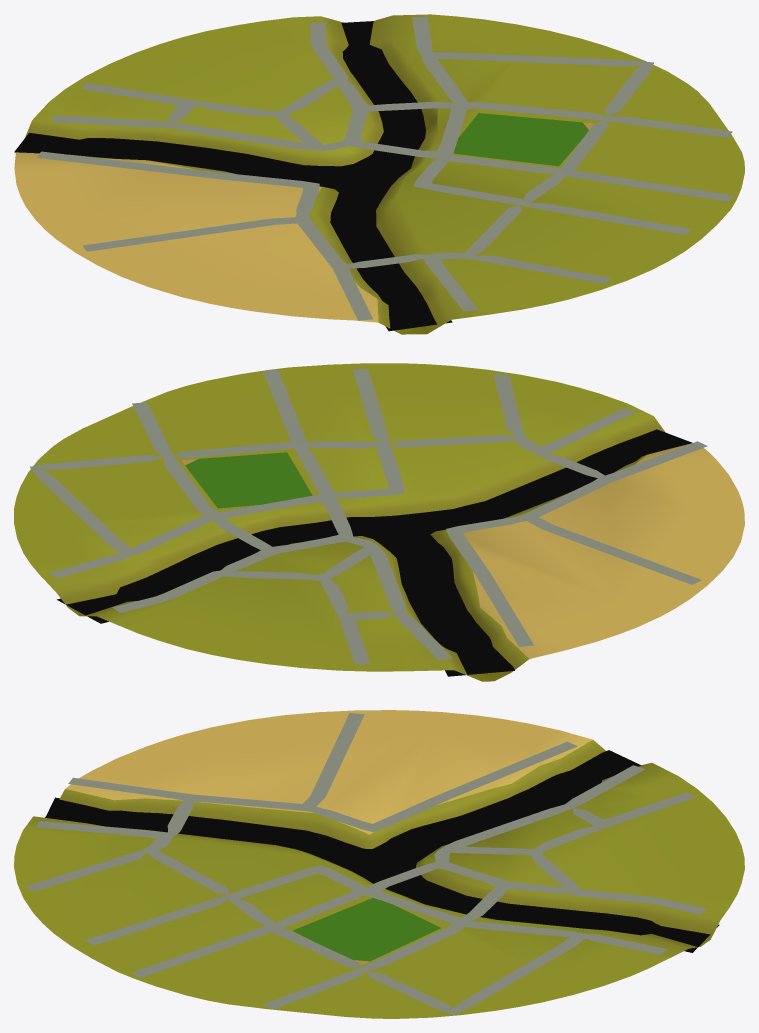
Rendered from SM_CityTerrain_01.fbx.
3 views of the same model, one above another, from view 1: azimuth 30°, elevation 25°; view 2: azimuth 150°, elevation 25°; view 3: azimuth 270°, elevation 25° (orthographic).
Parts seen in each view (by area): view 1: SM_CityTerrain_01; view 2: SM_CityTerrain_01; view 3: SM_CityTerrain_01.
Boxes of the visible parts, box(x1,y1,x2,y2) form: SM_CityTerrain_01: box(14, 14, 744, 334); SM_CityTerrain_01: box(14, 363, 744, 681); SM_CityTerrain_01: box(14, 710, 744, 1018).
Size of the model in its own units: 25.39 by 1.03 by 25.39.
